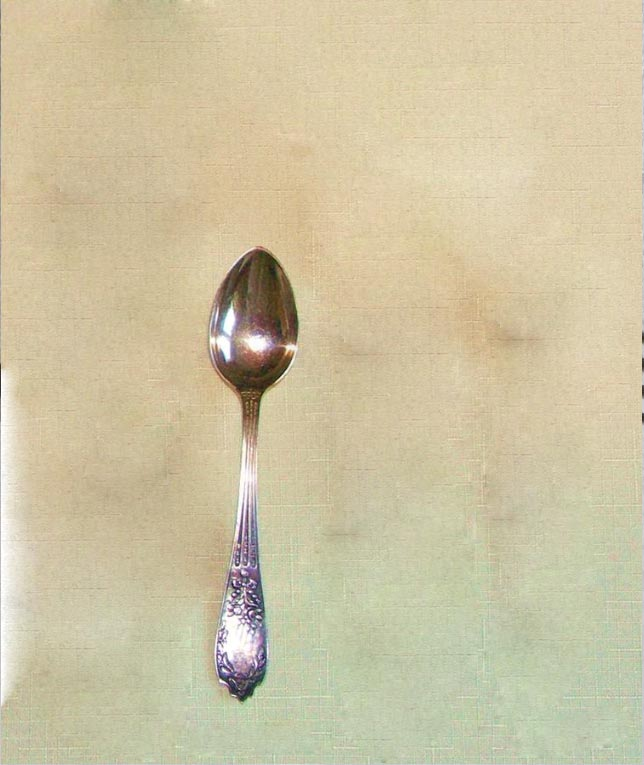Lyzka: (204, 239, 302, 402)
